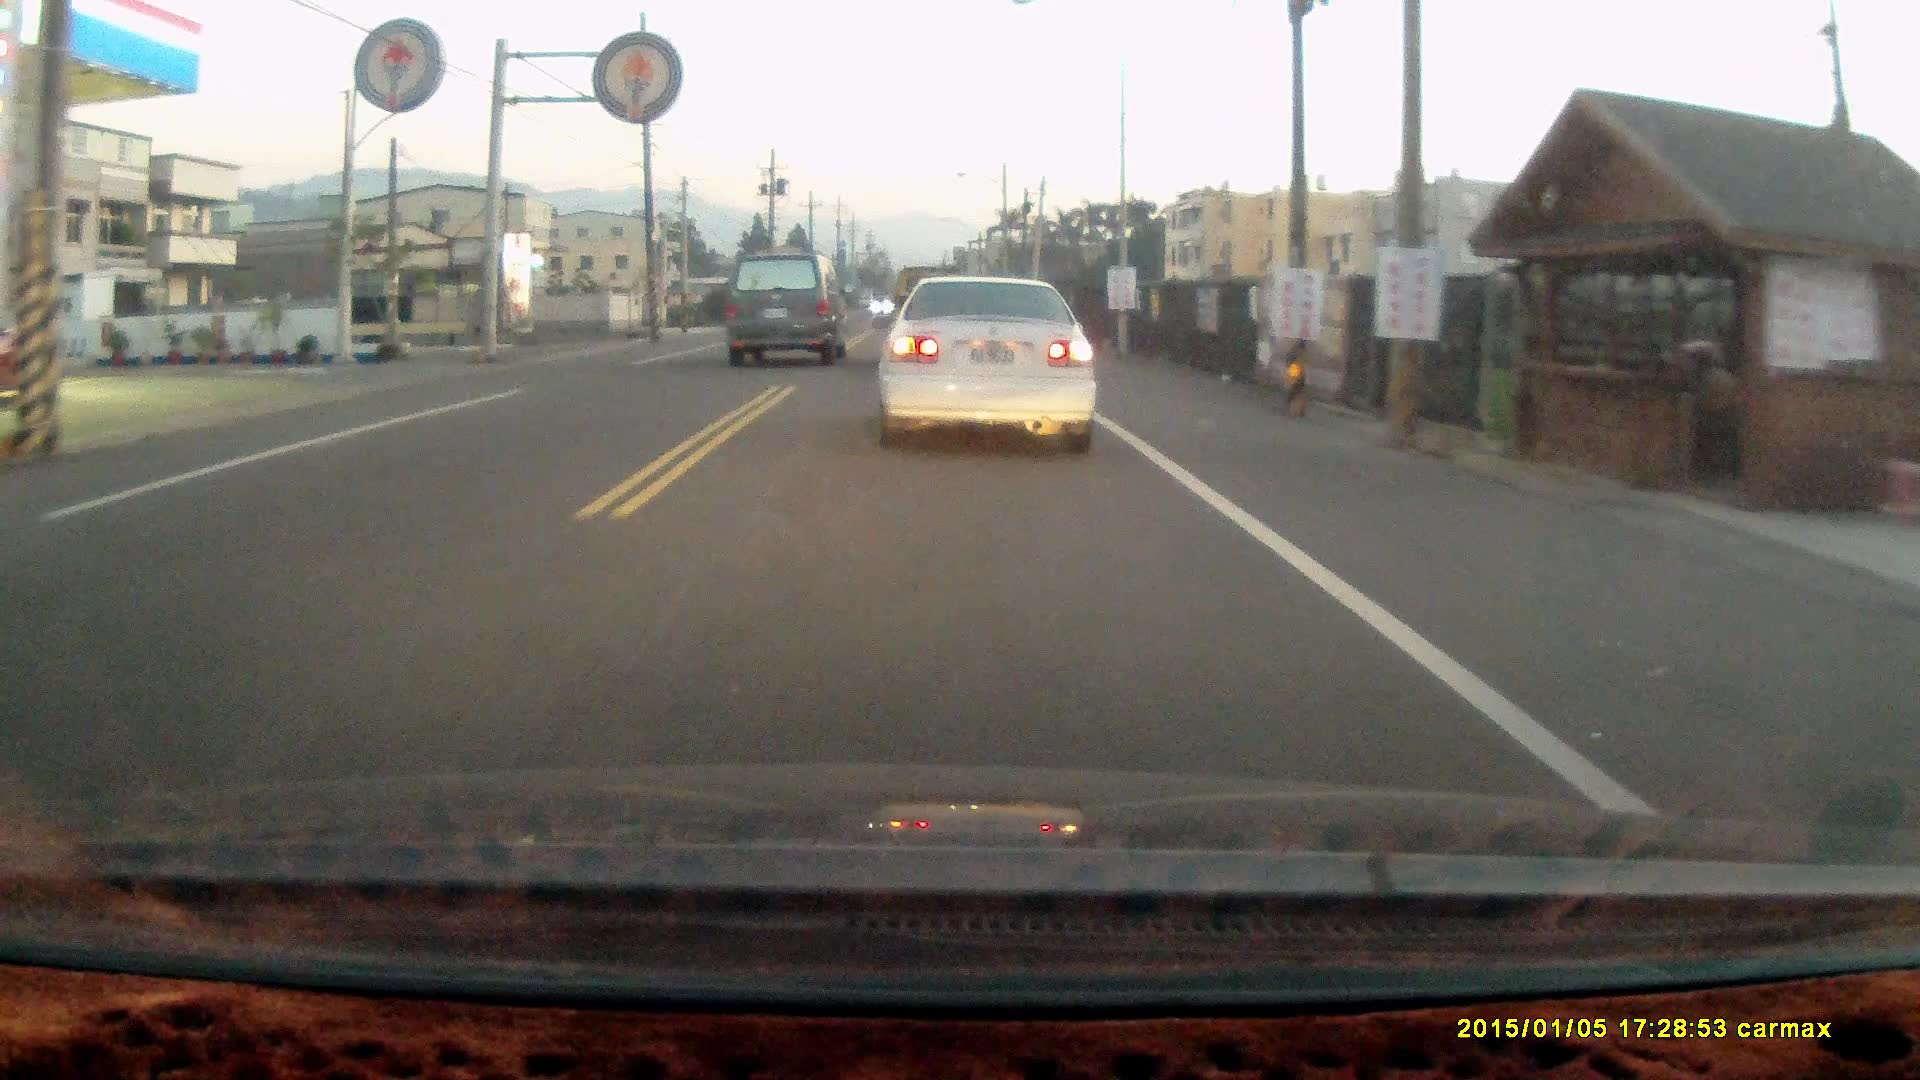pedestrian: (1681, 339, 1738, 456)
vehicle: (873, 275, 1099, 462), (719, 251, 849, 372)
